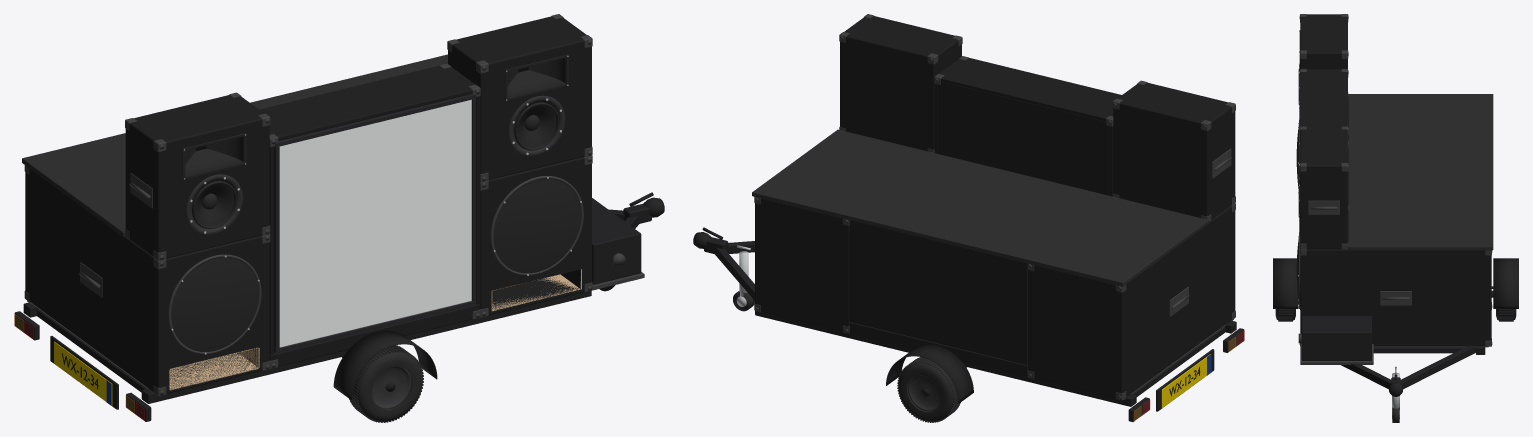
File: speaker_trailer_1m.glb
3 views of the same model, side by side, from view 1: azimuth 30°, elevation 25°; view 2: azimuth 150°, elevation 25°; view 3: azimuth 270°, elevation 25° (orthographic). The views are drawn at different scales.
Parts seen in each view (by area): view 1: panel_front_film, panel_front_glass, L_sub, L_top, R_top, R_sub, desk_top, C_top_plate, R_sub_grille, L_sub_grille, fog_machine, C_plinth (+22 smaller); view 2: desk_top, L_sub, C_rear, L_top, C_back, R_top, R_sub, C_top_plate, C_plinth, chassis_rail.001, tyre.001, mudguard.001 (+4 smaller); view 3: desk_top, R_sub, R_top, fog_machine, C_top_plate, L_top, mudguard.001, mudguard, drawbar.001, chassis_cross.002, drawbar, R_sub_handle_out_dish (+2 smaller).
Boxes of the visible parts, x1,y1,x2,y2 form: panel_front_film: (279, 100, 471, 347); panel_front_glass: (280, 100, 471, 347); L_sub: (25, 168, 269, 393); L_top: (125, 95, 269, 258); R_top: (448, 16, 591, 179); R_sub: (480, 157, 591, 315); desk_top: (22, 54, 447, 236); C_top_plate: (259, 65, 474, 140); R_sub_grille: (493, 179, 581, 273); L_sub_grille: (171, 257, 259, 351); fog_machine: (592, 198, 641, 284); C_plinth: (269, 304, 480, 366); desk_top: (752, 129, 1208, 286); L_sub: (1028, 206, 1235, 398); C_rear: (849, 220, 1028, 364); L_top: (1113, 82, 1235, 219); C_back: (937, 81, 1109, 195); R_top: (840, 16, 961, 151); R_sub: (755, 198, 849, 331); C_top_plate: (939, 58, 1121, 121); C_plinth: (849, 322, 1028, 376); chassis_rail.001: (755, 311, 1136, 406); tyre.001: (898, 359, 957, 421); mudguard.001: (886, 344, 973, 403); desk_top: (1348, 94, 1493, 250); R_sub: (1300, 249, 1491, 346); R_top: (1300, 127, 1347, 249); fog_machine: (1301, 316, 1371, 360); C_top_plate: (1300, 69, 1347, 126); L_top: (1300, 14, 1347, 69); mudguard.001: (1493, 258, 1518, 308); mudguard: (1273, 258, 1298, 308); drawbar.001: (1400, 345, 1474, 389); chassis_cross.002: (1373, 347, 1475, 353); drawbar: (1341, 363, 1391, 389); R_sub_handle_out_dish: (1380, 291, 1411, 305).
Bounding box in the file's own units: 3.02 × 1.59 × 1.54.
